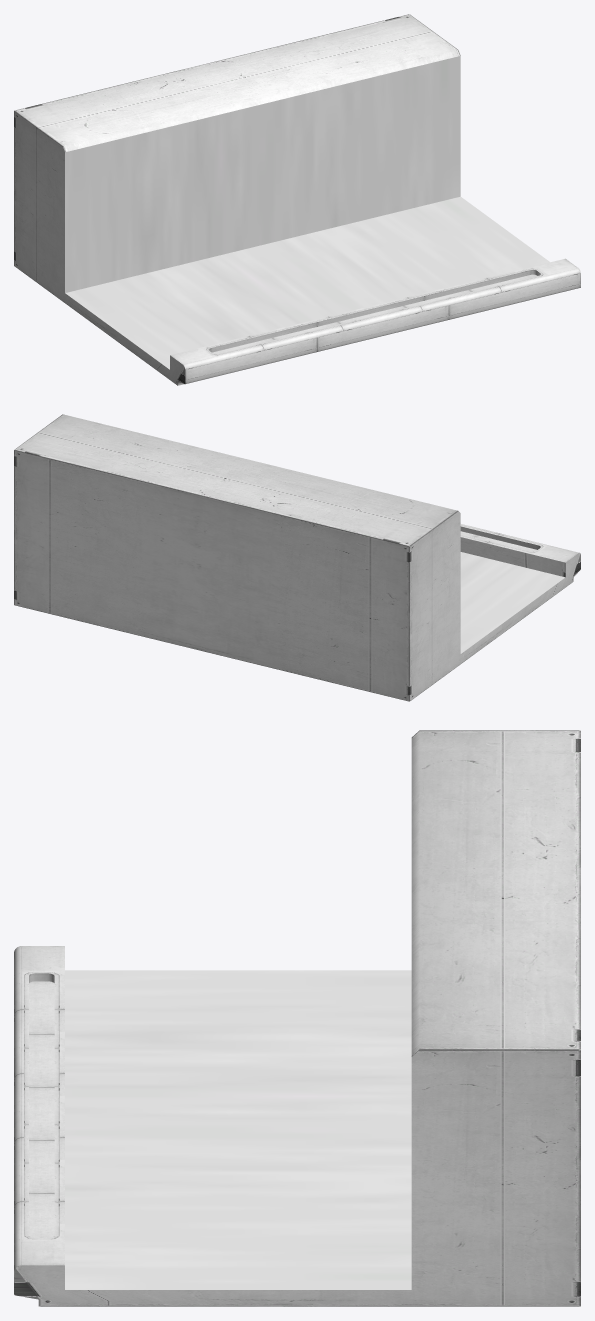
Rendered from Planter01Planter01.FBX.
3 renders of one model, top to bottom at view 1: azimuth 30°, elevation 25°; view 2: azimuth 150°, elevation 25°; view 3: azimuth 270°, elevation 25°, orthographic. The views are drawn at different scales.
Visible parts, largest first — view 1: Planter01Planter01; view 2: Planter01Planter01; view 3: Planter01Planter01.
Boxes of the visible parts, x1,y1,x2,y2 form: Planter01Planter01: (14,14,580,385); Planter01Planter01: (14,414,580,701); Planter01Planter01: (14,730,580,1306).
Size of the model in its own units: 8 by 3 by 6.
